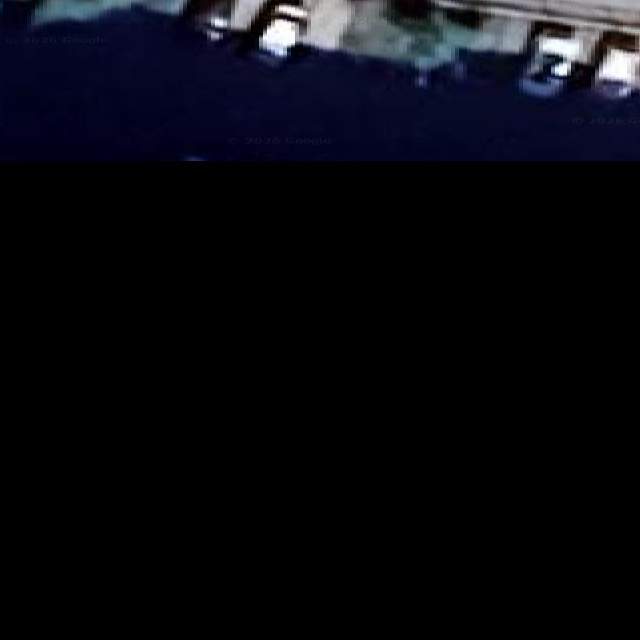car: (520, 24, 580, 96), (592, 33, 639, 99)
